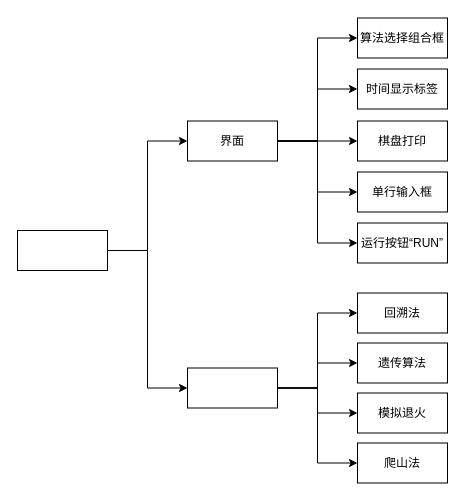
This 465x500 diagram has some shape labels left out. The centre of each missing label's shape, as x and y in pixels:
N皇后: pixel 62 250
算法: pixel 232 387
